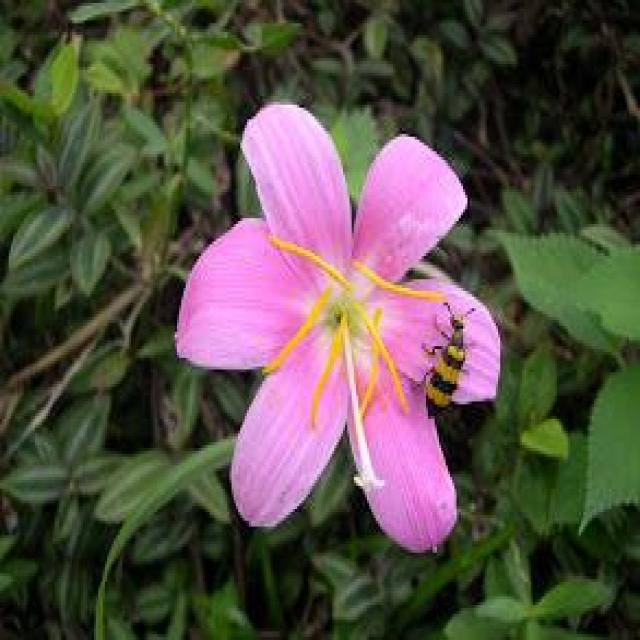BlisterBeetle-Adult-: (408, 293, 487, 426)
